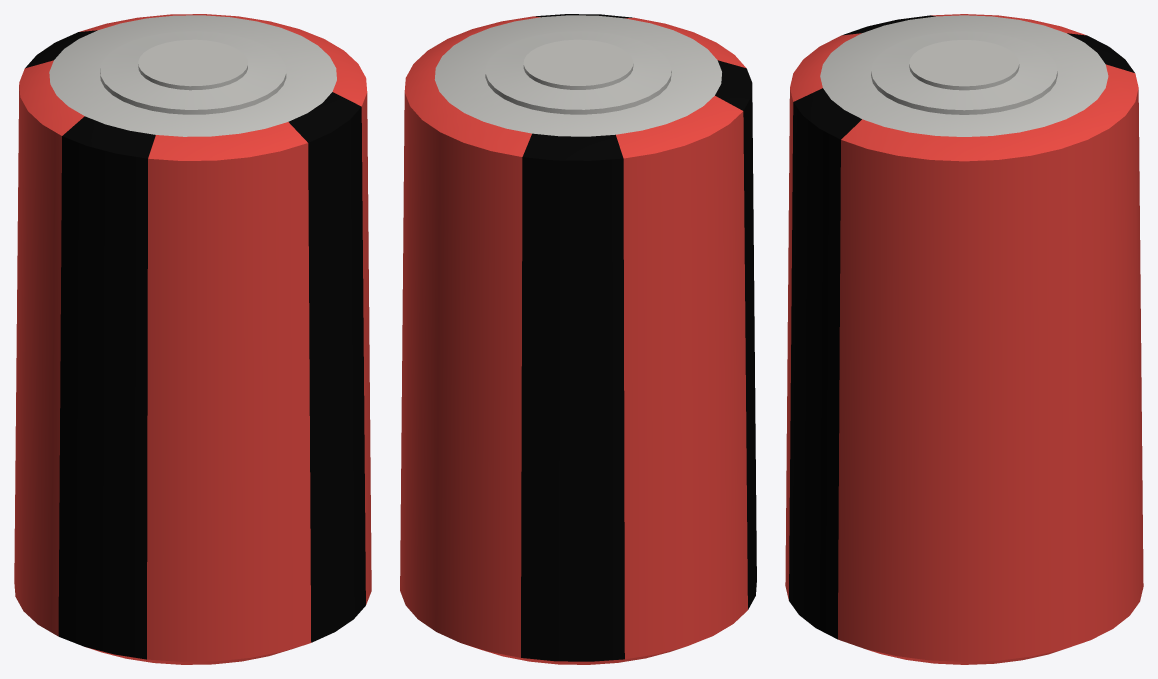
File: Battery.fbx
3 views of the same model, side by side, from view 1: azimuth 30°, elevation 25°; view 2: azimuth 150°, elevation 25°; view 3: azimuth 270°, elevation 25° (orthographic).
Parts seen in each view (by area): view 1: 円柱; view 2: 円柱; view 3: 円柱.
Boxes of the visible parts, box(x1,y1,x2,y2) form: 円柱: box(14, 14, 371, 664); 円柱: box(400, 14, 756, 664); 円柱: box(785, 14, 1143, 664).
Size of the model in its own units: 196 by 325 by 196.
